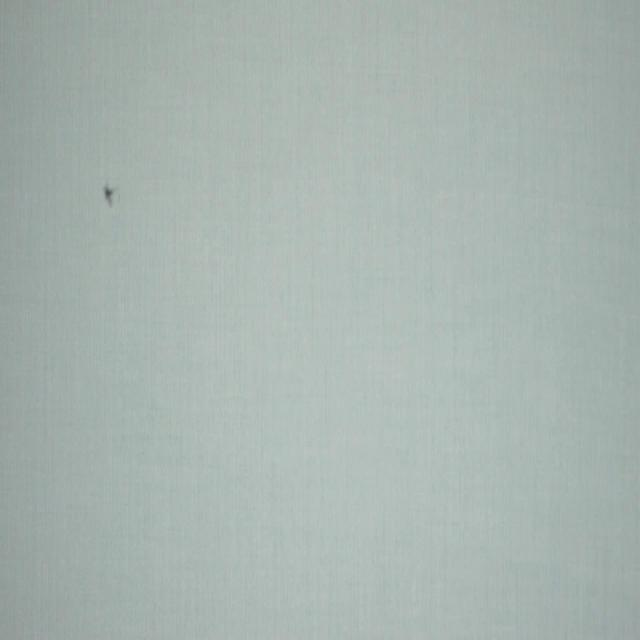dirty: (102, 182, 118, 209)
